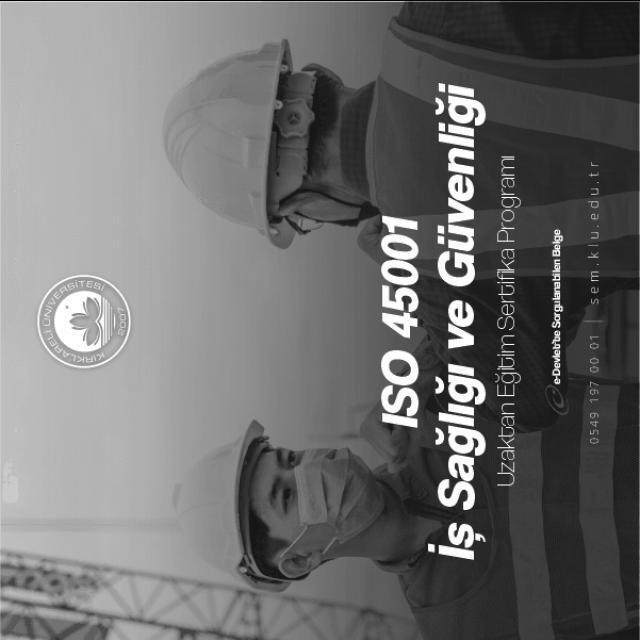safety_helmet: (163, 38, 347, 248), (176, 419, 295, 594)
